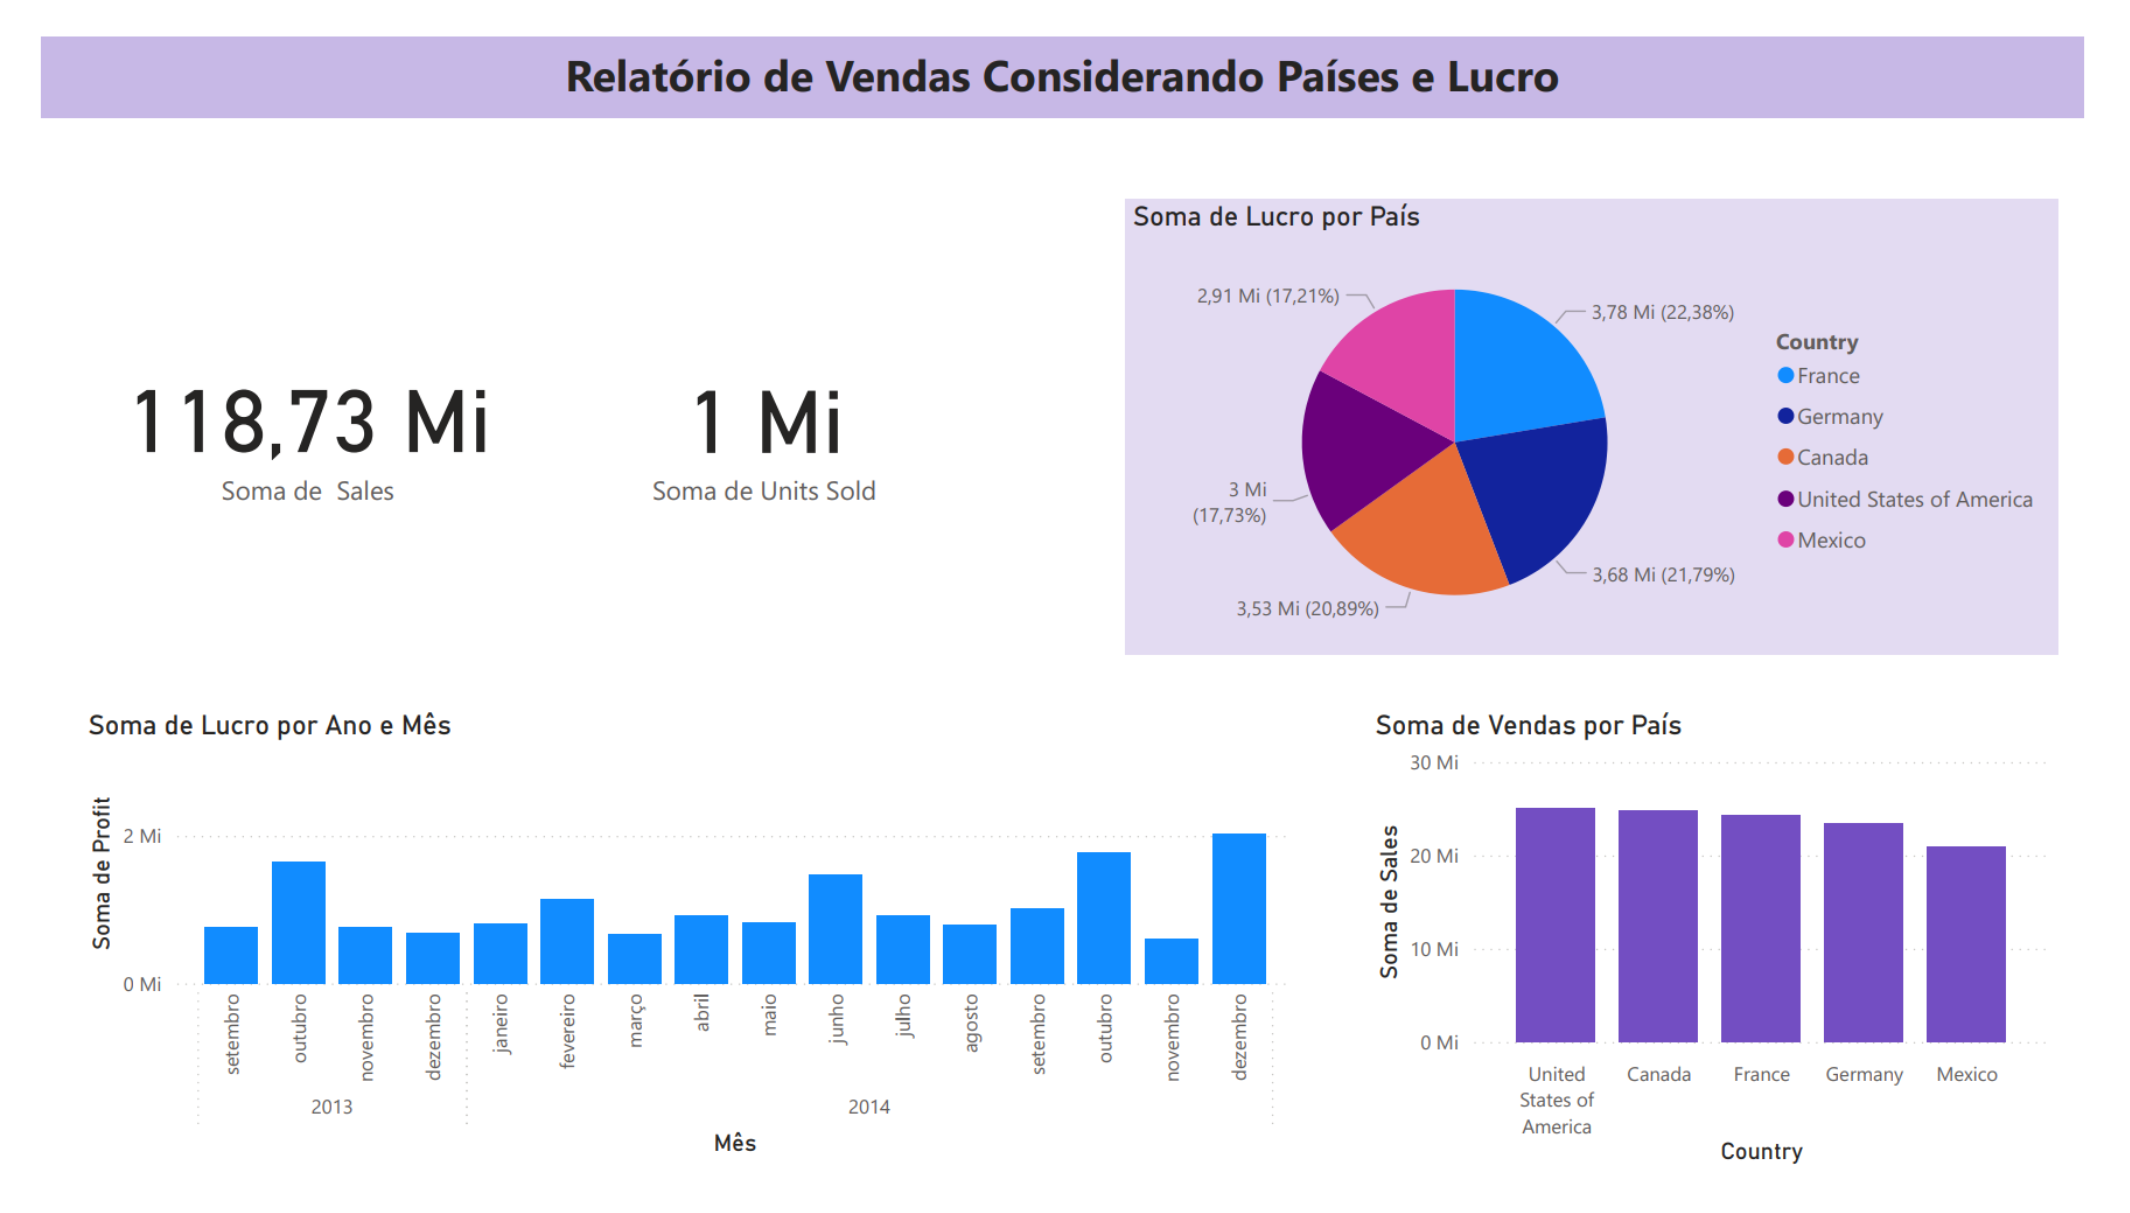

The dashboard page shown, as its layout file describes it:
{"tool":"powerbi","page":{"name":"Página 2","canvas":[1280,720],"ordinal":1},"visuals":[{"type":"card","fields":{"Values":["Sum(financials. Sales)"]},"box":[34,105.7,280.3,280.3],"z":0},{"type":"card","fields":{"Values":["Sum(financials.Units Sold)"]},"box":[314.3,106.6,280.3,279.4],"z":1000},{"type":"pieChart","title":"Soma de Lucro por País","fields":{"Category":["financials.Country"],"Y":["Sum(financials.Profit)"]},"box":[676.1,105.7,573.1,280.3],"z":2000},{"type":"columnChart","title":"Soma de Lucro por Ano e Mês","fields":{"Y":["Sum(financials.Profit)"],"Category":["financials.Date.Variation.Hierarquia de datas.Ano","financials.Date.Variation.Hierarquia de datas.Mês"]},"box":[34,419.1,749.6,279.4],"z":3000},{"type":"columnChart","title":"Soma de  Vendas por País","fields":{"Category":["financials.Country"],"Y":["Sum(financials. Sales)"]},"box":[824.8,419.1,424.5,284.8],"z":4000},{"type":"textbox","box":[9.9,6.3,1255.5,50.1],"z":5000}]}

Visuals, with their boxes in screenshot pixels (x1, y1, x2, y2), scaled from the page's 1280x720 canvas onto the 2130x1213 screenshot:
card - Sum(financials. Sales): l=57, t=178, r=523, b=650
card - Sum(financials.Units Sold): l=523, t=180, r=989, b=650
"Soma de Lucro por País" pieChart: l=1125, t=178, r=2079, b=650
"Soma de Lucro por Ano e Mês" columnChart: l=57, t=706, r=1304, b=1177
"Soma de  Vendas por País" columnChart: l=1373, t=706, r=2079, b=1186
textbox: l=16, t=11, r=2106, b=95
